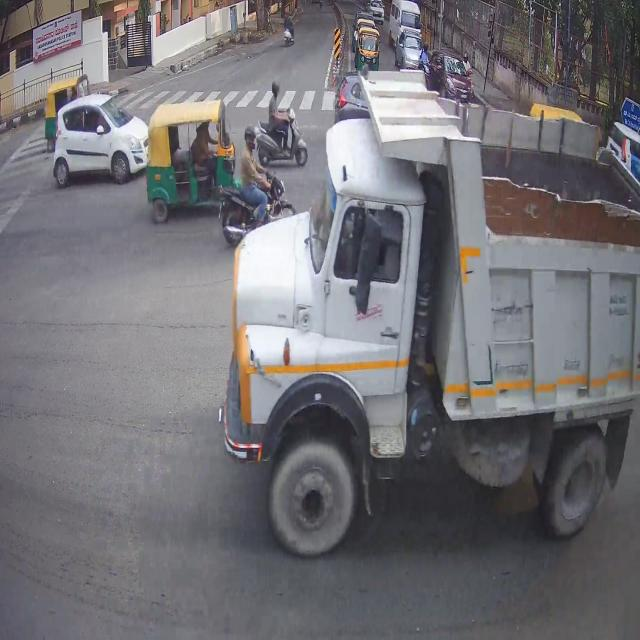Bus: (390, 0, 425, 44)
Car: (59, 96, 151, 202), (429, 46, 473, 104), (616, 114, 640, 174), (397, 31, 423, 70)
Three-wheeler: (148, 110, 242, 225), (46, 86, 93, 121), (350, 27, 385, 72)
Truck: (256, 150, 633, 526)
Two-wheelers: (225, 154, 298, 236), (248, 94, 306, 162)
